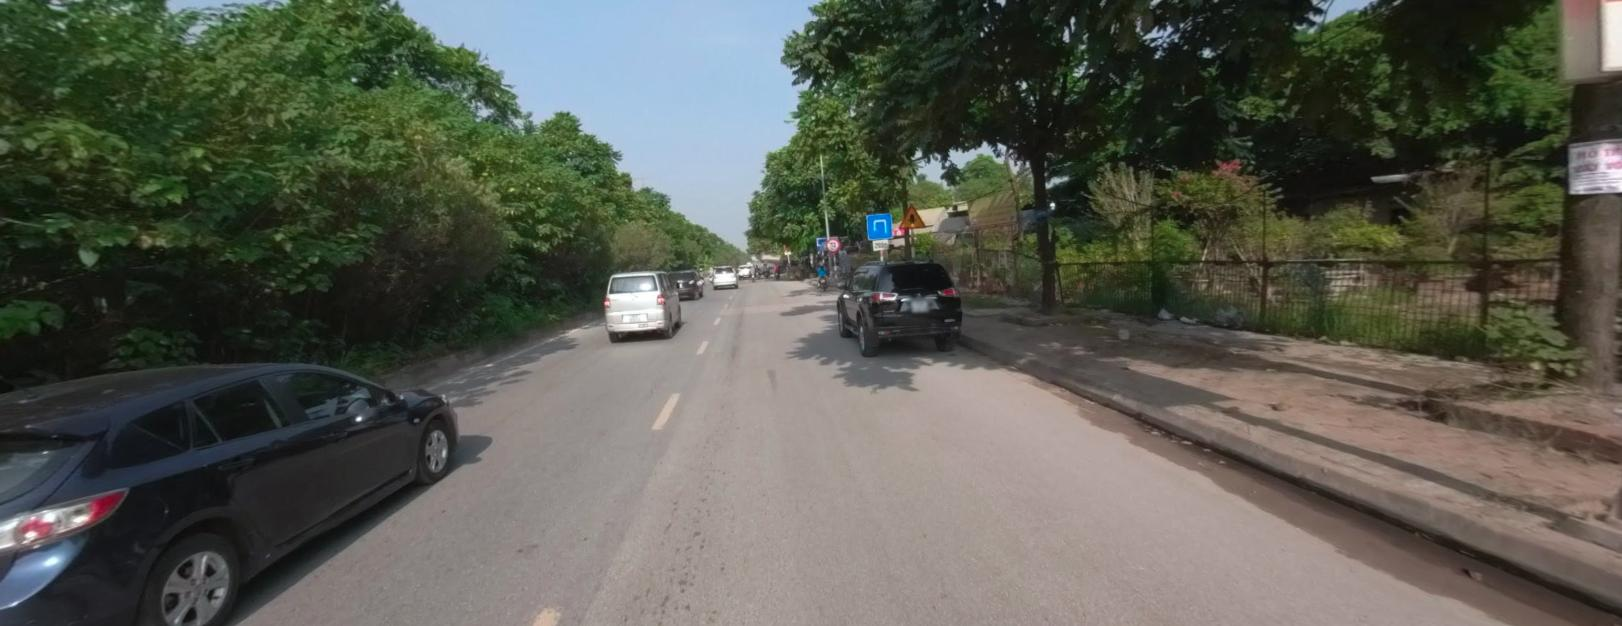Cam re: (826, 238, 838, 249)
Nguy hiem: (898, 203, 924, 226)
